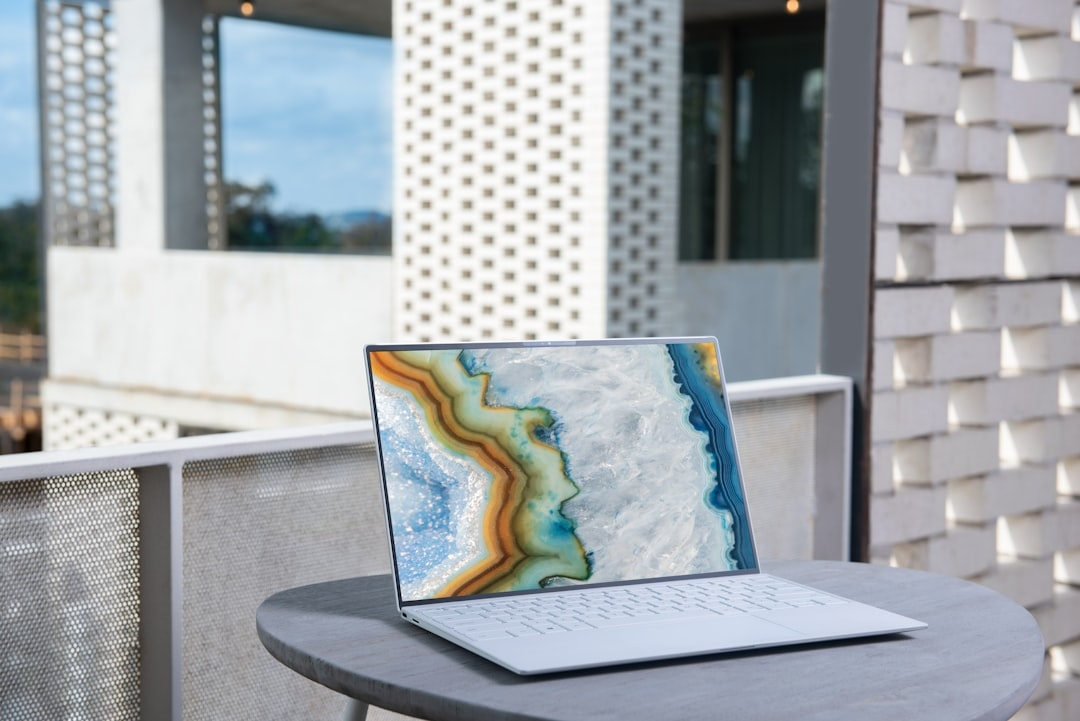laptop: (324, 297, 955, 705)
